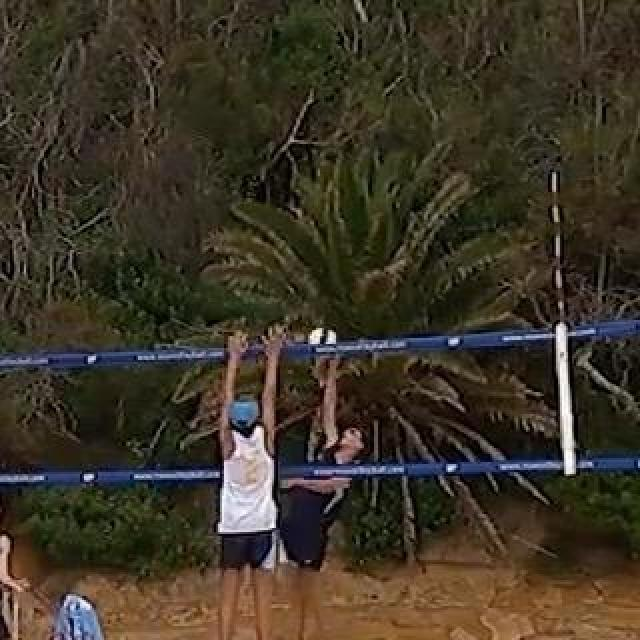volleyball: (308, 327, 338, 357)
